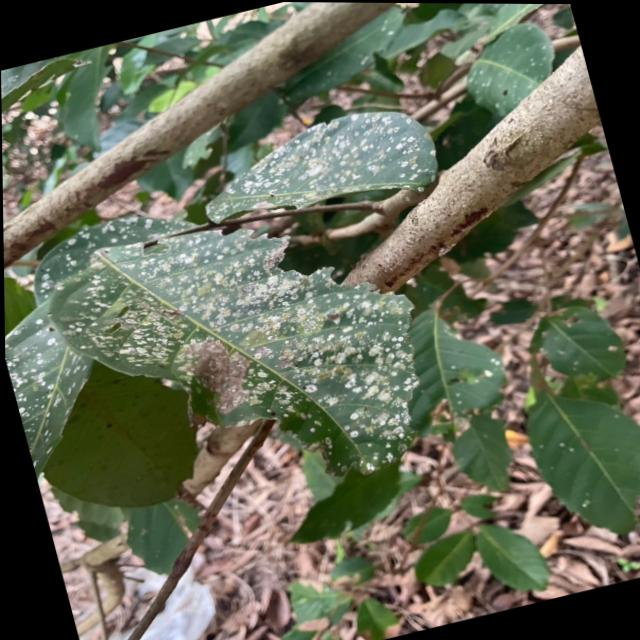Algal Leaf Spot: (34, 159, 468, 498)
